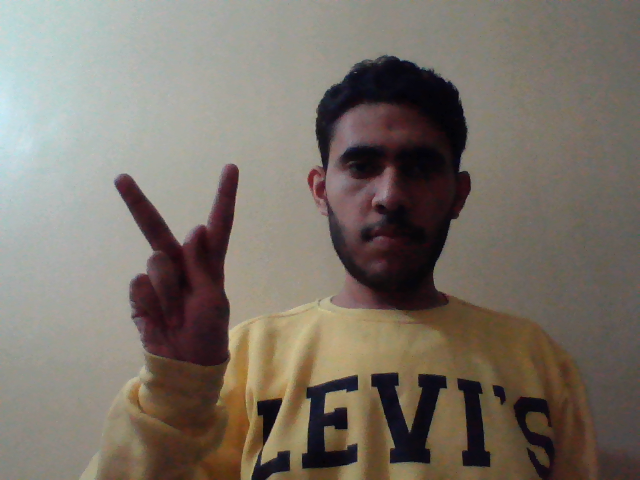K: (107, 154, 237, 382)
